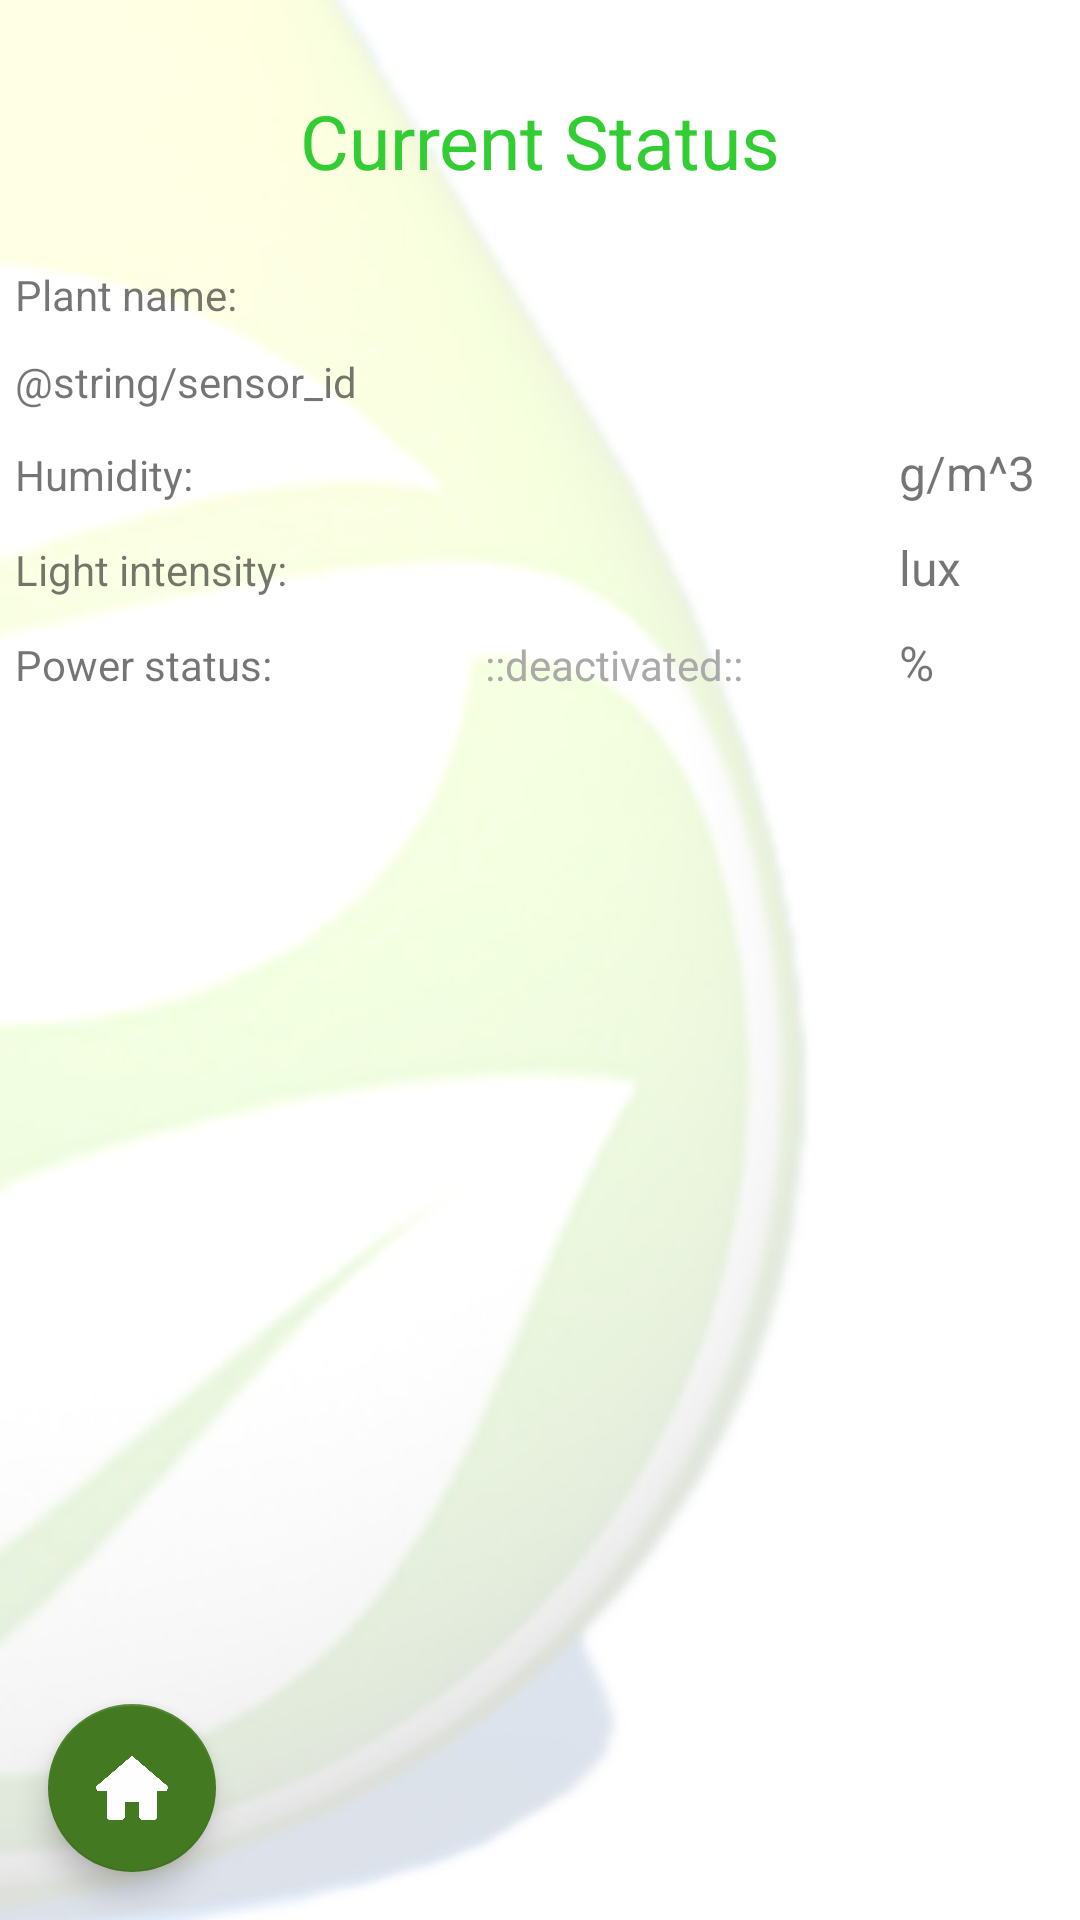

Where to tap for icons on this 1080 × 1920 app screen, as (x,y):
homie: (132,1788)
